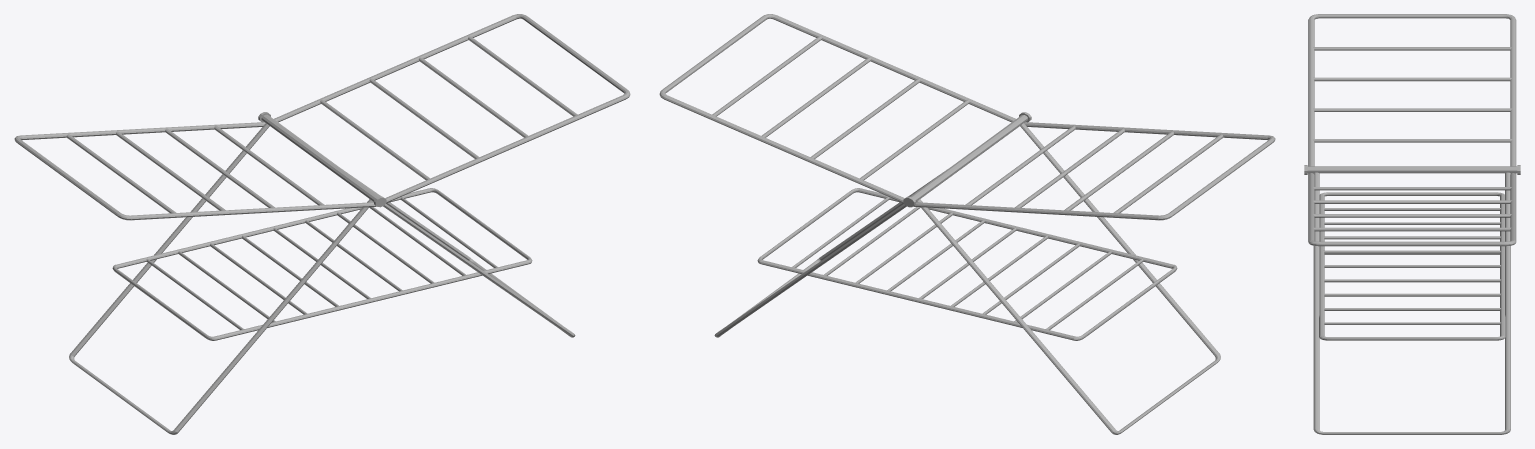
File: fbx_drying_rack.fbx
3 views of the same model, side by side, from view 1: azimuth 30°, elevation 25°; view 2: azimuth 150°, elevation 25°; view 3: azimuth 270°, elevation 25° (orthographic). The views are drawn at different scales.
Visible parts, largest first — view 1: fbx_drying_rack; view 2: fbx_drying_rack; view 3: fbx_drying_rack.
Part boxes in pixels (<box>): fbx_drying_rack: <box>14,14,630,434</box>; fbx_drying_rack: <box>659,14,1275,434</box>; fbx_drying_rack: <box>1304,14,1520,434</box>.
Size of the model in its own units: 1.41 by 0.621 by 0.5612.
Materials: 1 (1 with a texture image).
